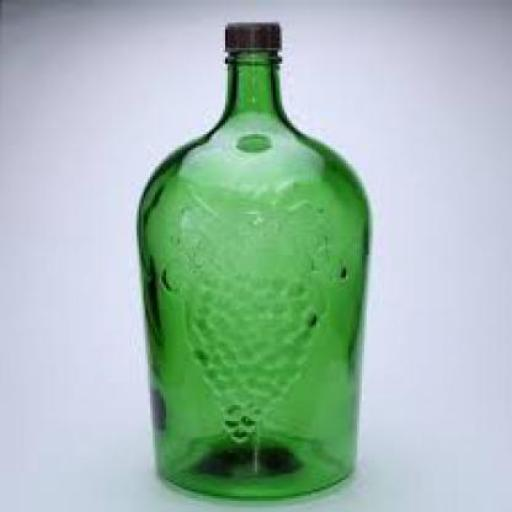glass: (139, 48, 371, 491)
plastic: (225, 20, 287, 55)
